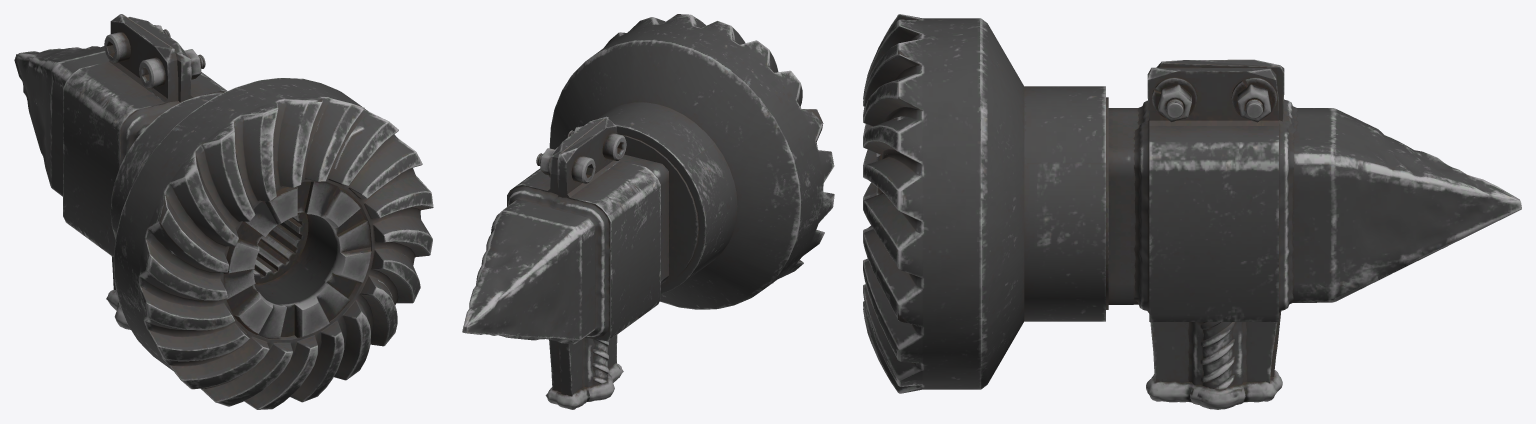
File: Head_Hammer_7.glb
3 views of the same model, side by side, from view 1: azimuth 30°, elevation 25°; view 2: azimuth 150°, elevation 25°; view 3: azimuth 270°, elevation 25° (orthographic). The views are drawn at different scales.
Parts seen in each view (by area): view 1: Head_Hammer_7_LOD0; view 2: Head_Hammer_7_LOD0; view 3: Head_Hammer_7_LOD0.
Boxes of the visible parts, left/top/right/bottom form: Head_Hammer_7_LOD0: left=14, top=14, right=433, bottom=409; Head_Hammer_7_LOD0: left=462, top=14, right=834, bottom=409; Head_Hammer_7_LOD0: left=863, top=14, right=1521, bottom=409.
Size of the model in its own units: 0.1299 by 0.1379 by 0.226.
Materials: 1 (1 with a texture image).
